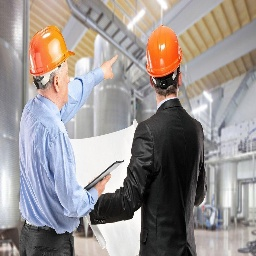helmet: (29, 28, 72, 70), (146, 25, 182, 73)
no-vest: (19, 97, 96, 234), (134, 107, 205, 255)
person: (20, 27, 111, 256), (129, 28, 207, 256)
